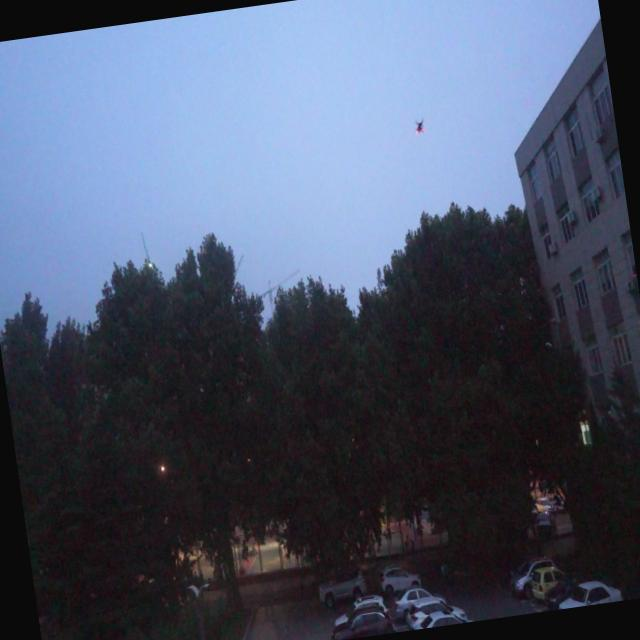drone: (411, 116, 428, 140)
